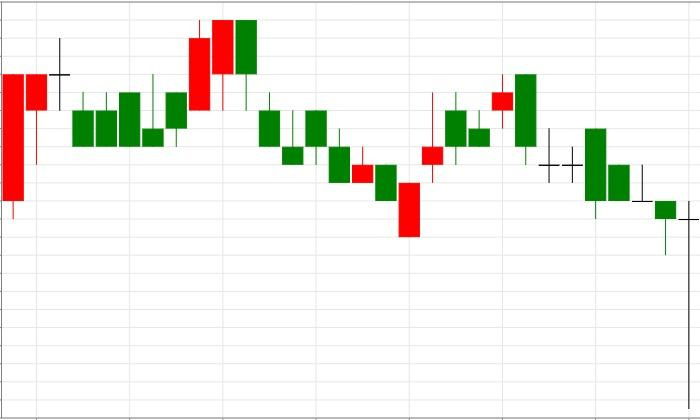bearish_engulfing_fall: (72, 20, 258, 147), (398, 74, 537, 237)
